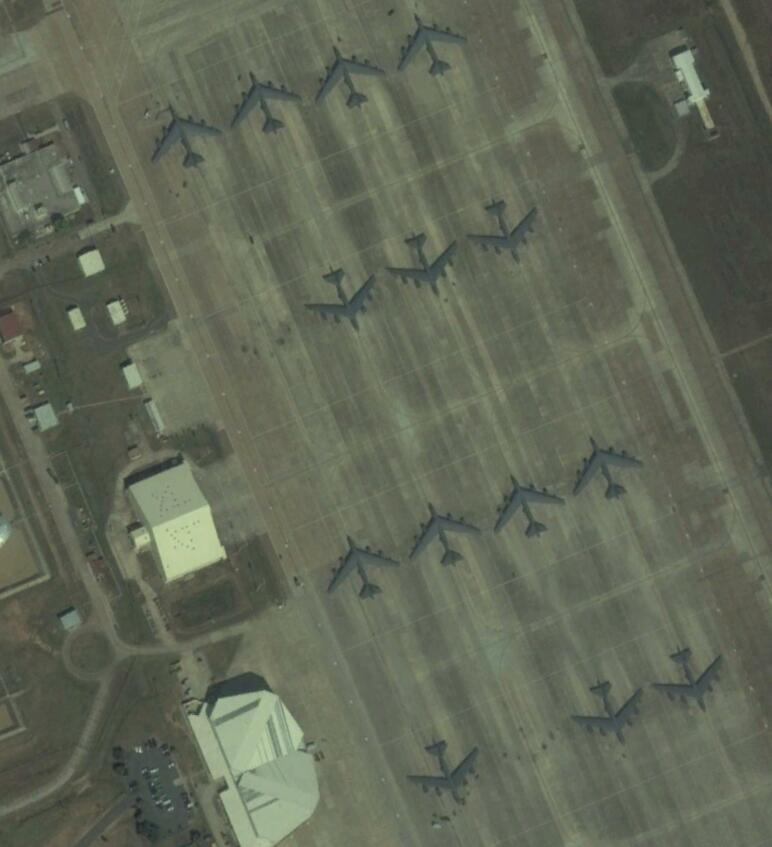A8: (648, 641, 727, 719), (144, 100, 224, 171), (387, 226, 463, 300), (407, 498, 483, 572), (408, 736, 483, 810), (323, 533, 402, 603), (466, 198, 543, 268), (570, 674, 644, 746), (302, 262, 376, 333), (571, 435, 646, 505), (492, 472, 566, 541), (229, 66, 302, 135), (396, 13, 469, 80), (313, 43, 385, 110)
